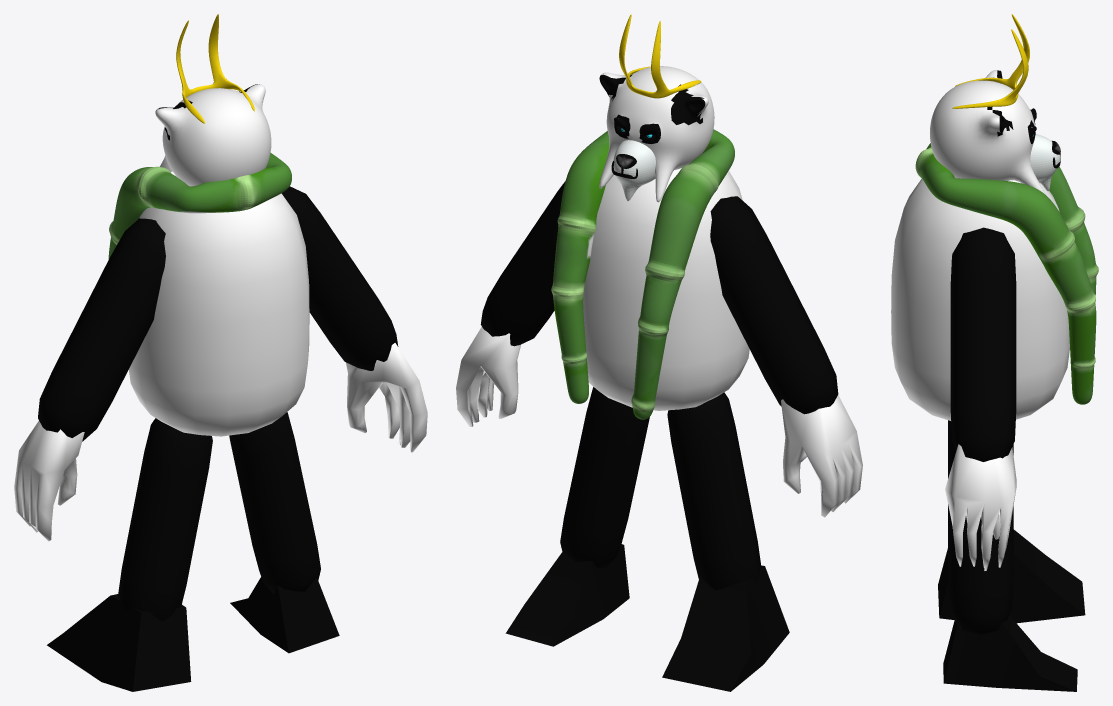
File: loki-voli-v78.glb
3 renders of one model, left to right at view 1: azimuth 30°, elevation 25°; view 2: azimuth 150°, elevation 25°; view 3: azimuth 270°, elevation 25°, orthographic.
Parts seen in each view (by area): view 1: Limbs, Body, Feet, Cube, Head, Scarf, Horns; view 2: Limbs, Body, Scarf, Feet, Cube, Head, Snout, Horns; view 3: Body, Limbs, Scarf, Feet, Head, Cube, Horns, Snout.
Boxes of the visible parts, <box> form: Limbs: <box>38,186,398,620</box>; Body: <box>129,175,309,436</box>; Feet: <box>47,577,339,691</box>; Cube: <box>14,343,427,541</box>; Head: <box>155,84,271,186</box>; Scarf: <box>108,153,291,259</box>; Horns: <box>176,14,254,123</box>; Limbs: <box>480,181,838,590</box>; Body: <box>583,168,749,410</box>; Scarf: <box>551,129,734,419</box>; Feet: <box>505,544,789,691</box>; Cube: <box>456,326,862,517</box>; Head: <box>599,66,714,202</box>; Snout: <box>613,140,655,200</box>; Horns: <box>619,14,701,98</box>; Body: <box>891,179,1069,420</box>; Limbs: <box>948,227,1016,634</box>; Scarf: <box>915,143,1098,404</box>; Feet: <box>938,529,1085,691</box>; Head: <box>930,70,1045,194</box>; Cube: <box>945,444,1016,570</box>; Horns: <box>952,14,1029,108</box>; Snout: <box>1030,134,1060,191</box>.
Size of the model in its own units: 1.49 by 2.31 by 0.6955.
